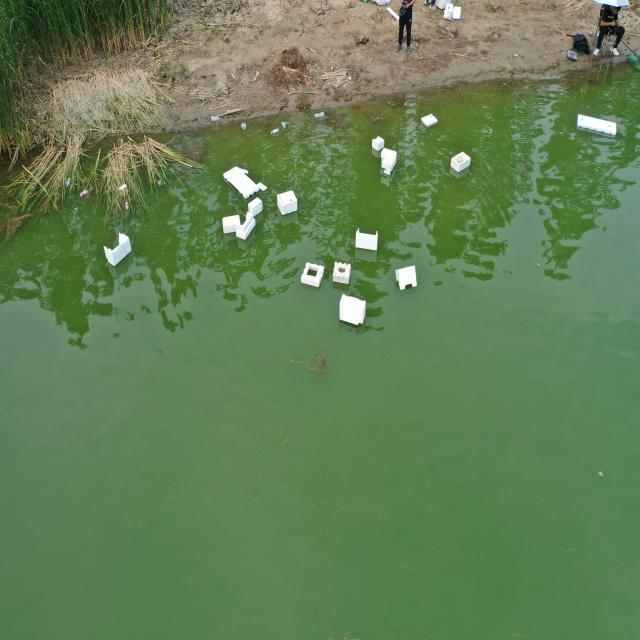Plastic Bag: (240, 122, 247, 130)
Plastic Bottle: (223, 166, 268, 199), (103, 232, 132, 267), (577, 113, 617, 136), (339, 293, 366, 326), (300, 262, 324, 288), (236, 211, 256, 240), (395, 264, 417, 290), (276, 190, 298, 216), (355, 228, 378, 251), (380, 147, 398, 176), (450, 150, 471, 173), (332, 261, 352, 285), (222, 214, 241, 234), (248, 197, 264, 217), (421, 112, 439, 129), (371, 135, 385, 152), (79, 189, 90, 197), (210, 115, 221, 121), (313, 112, 325, 117), (66, 177, 71, 188), (271, 128, 279, 134), (125, 200, 129, 210), (281, 122, 286, 128)
